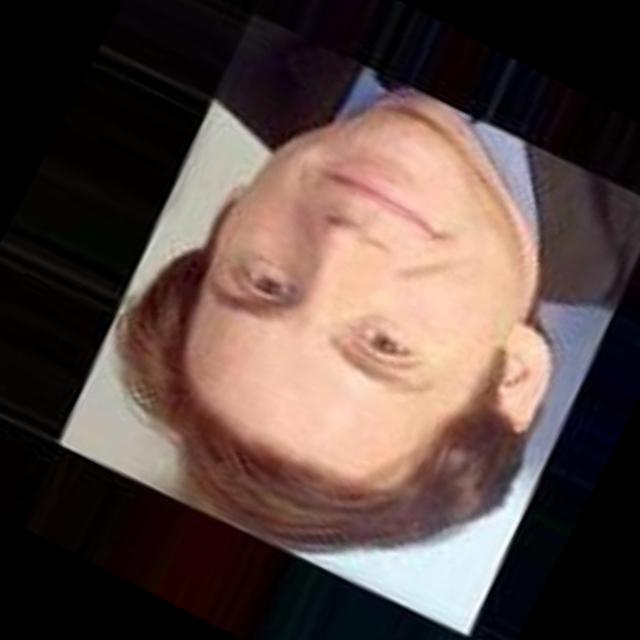bareface: (109, 65, 616, 602)
